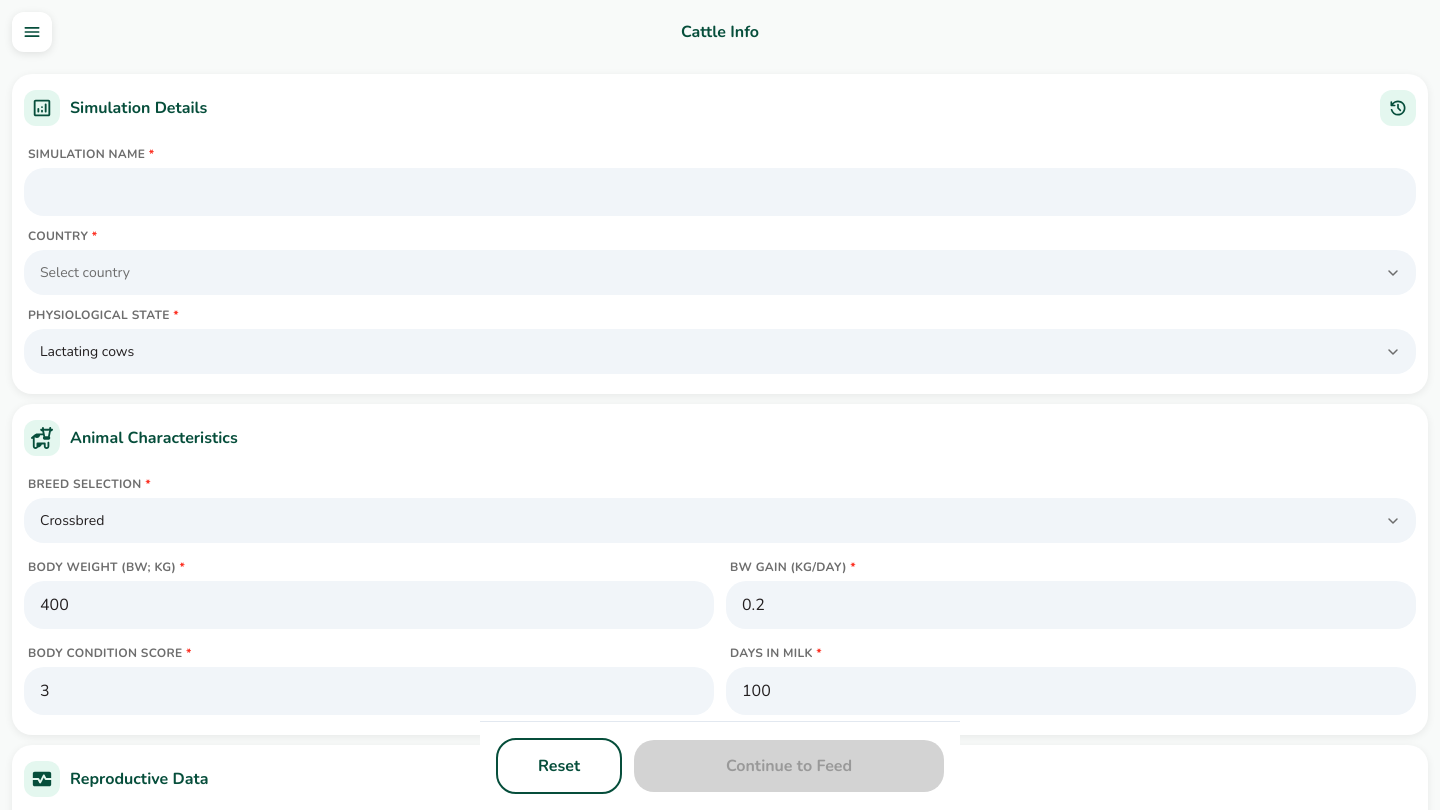
it: Cattle Info — field validation handlers › handleBCS: flags out-of-range (1-5) with the exact Android-ported message
Expected: the button named "Simulation history" is shown, [1380,90,1416,126]
Step 1. Replace the text in the number field labelled "Body Condition Score *" with "6" → (369, 691), box [24,667,714,715]
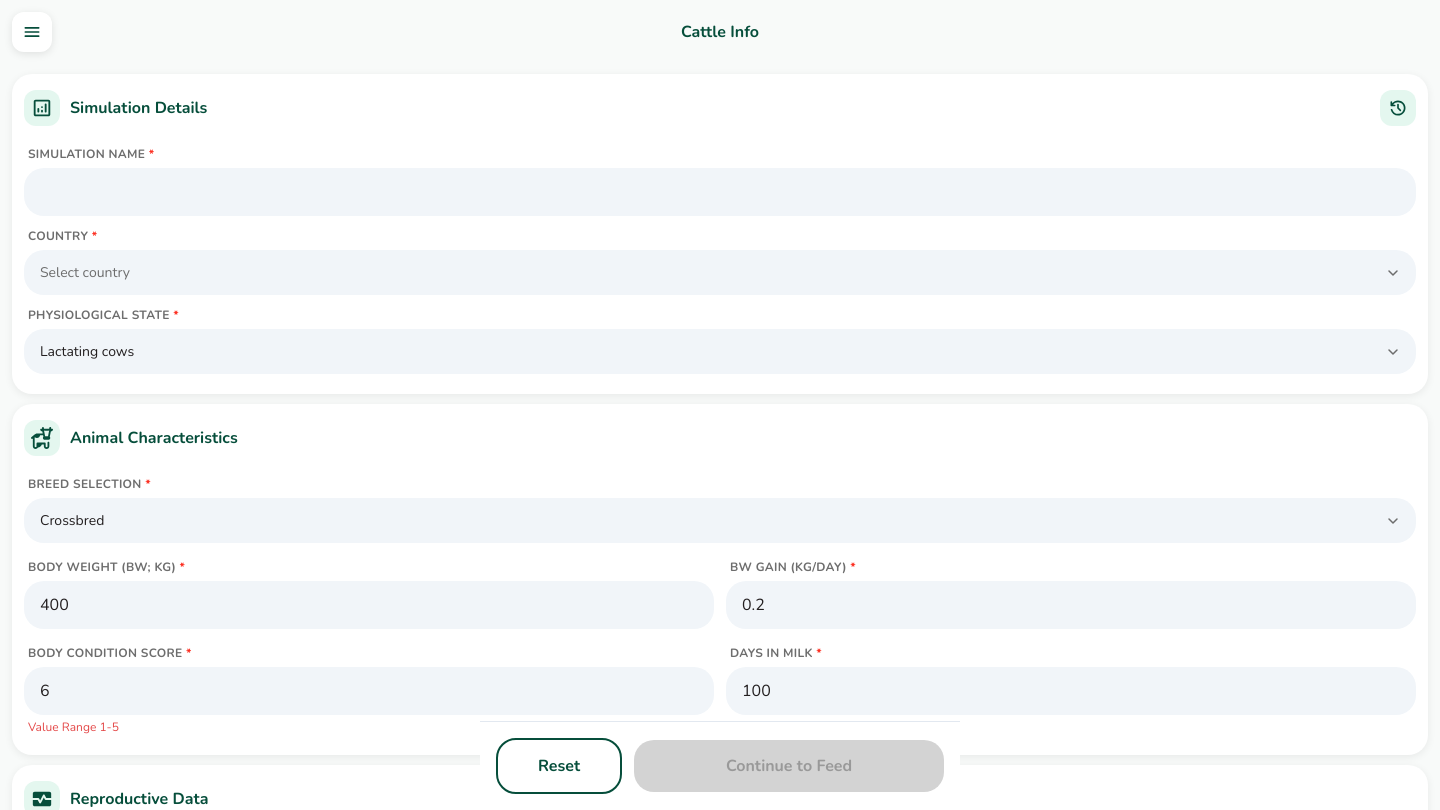
Result: the text "Value Range 1-5" is shown at [28,719,119,735]
Step 2. Replace the text in the number field labelled "Body Condition Score *" with "4" → (369, 691), box [24,667,714,715]
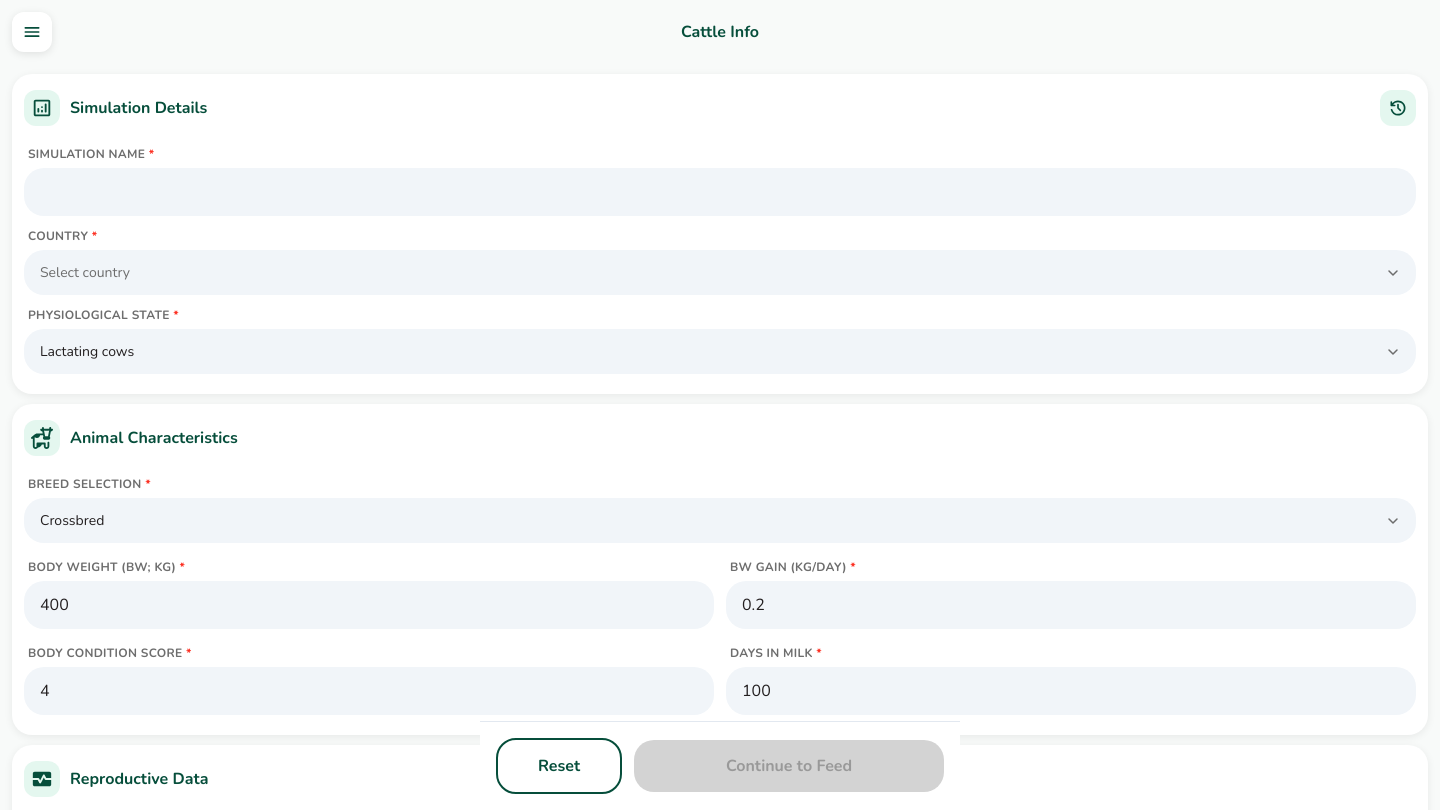
Result: the text "Value Range 1-5" is gone
